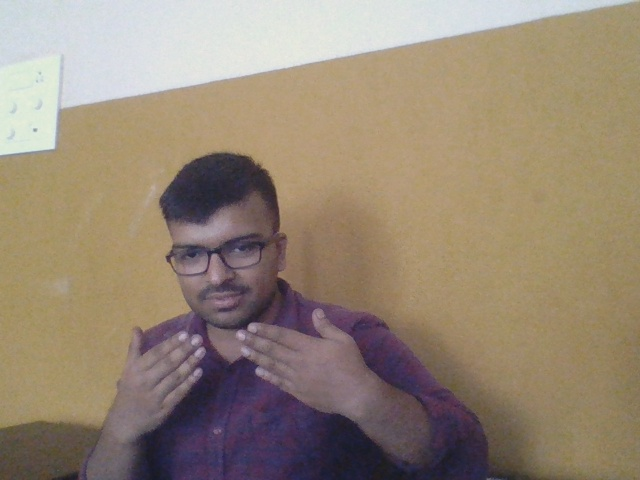Thank You: (87, 310, 396, 441)
